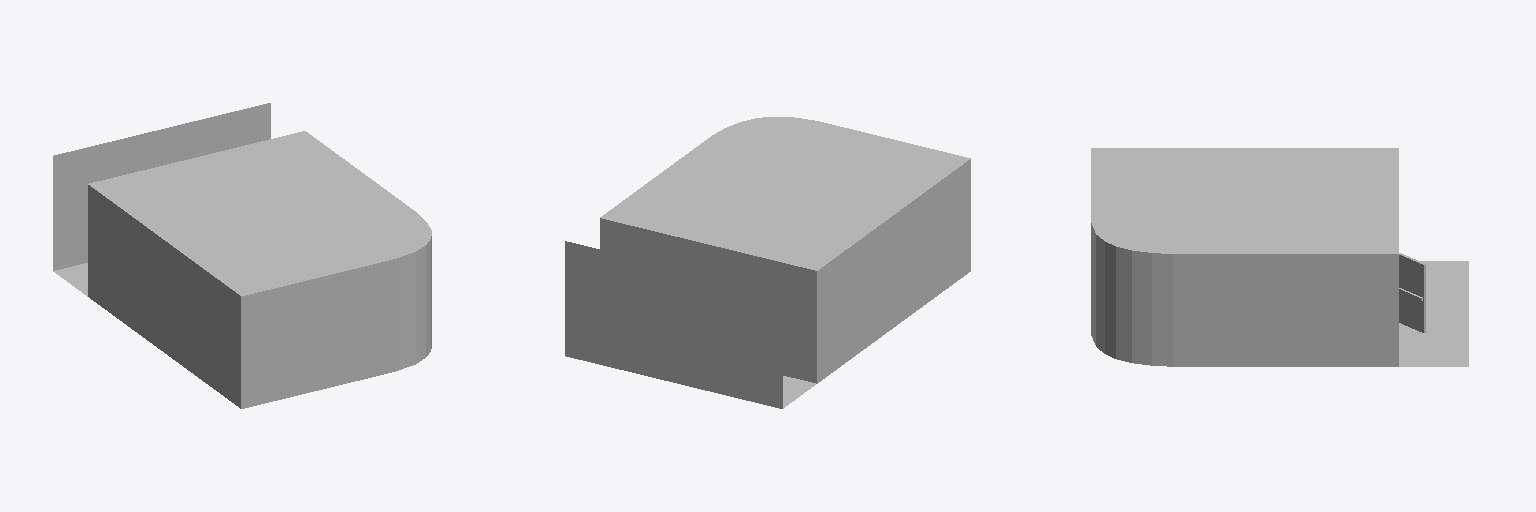
The picture shows the model from 3 angles: view 1: azimuth 30°, elevation 25°; view 2: azimuth 150°, elevation 25°; view 3: azimuth 270°, elevation 25°; orthographic projection.
Parts seen in each view (by area): view 1: Boden; view 2: Boden; view 3: Boden, Tuer.
Part boxes in pixels (bbox=[...]): Boden: bbox=[53, 103, 431, 408]; Boden: bbox=[565, 117, 970, 408]; Boden: bbox=[1091, 148, 1468, 366]; Tuer: bbox=[1399, 253, 1425, 332].
Bounding box in the file's own units: 16 × 8.1 × 24.02.